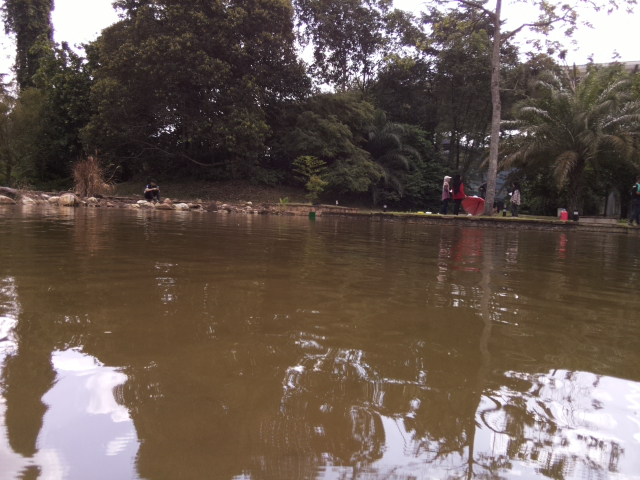obstacle: (307, 210, 317, 220)
